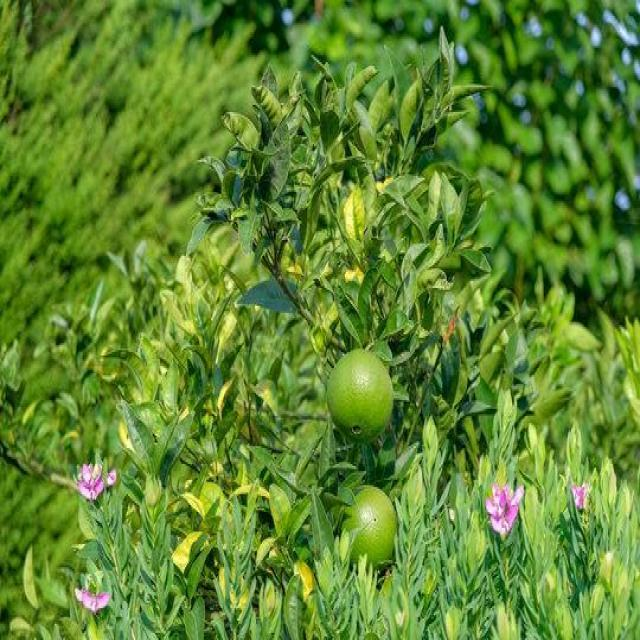Jeruk Belum Matang: (328, 348, 395, 442), (348, 485, 399, 576)
